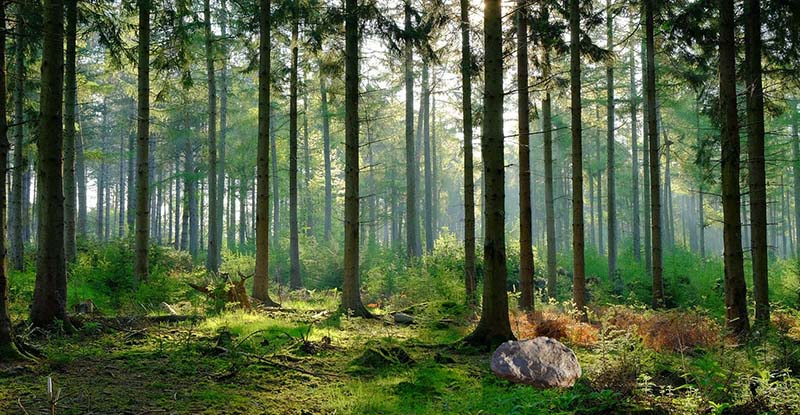Rocks: (485, 335, 583, 395)
